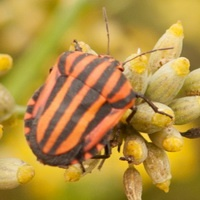insect: (24, 41, 182, 191)
